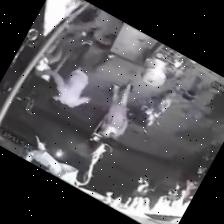person: (36, 40, 115, 107), (101, 81, 130, 141), (35, 31, 66, 70)
